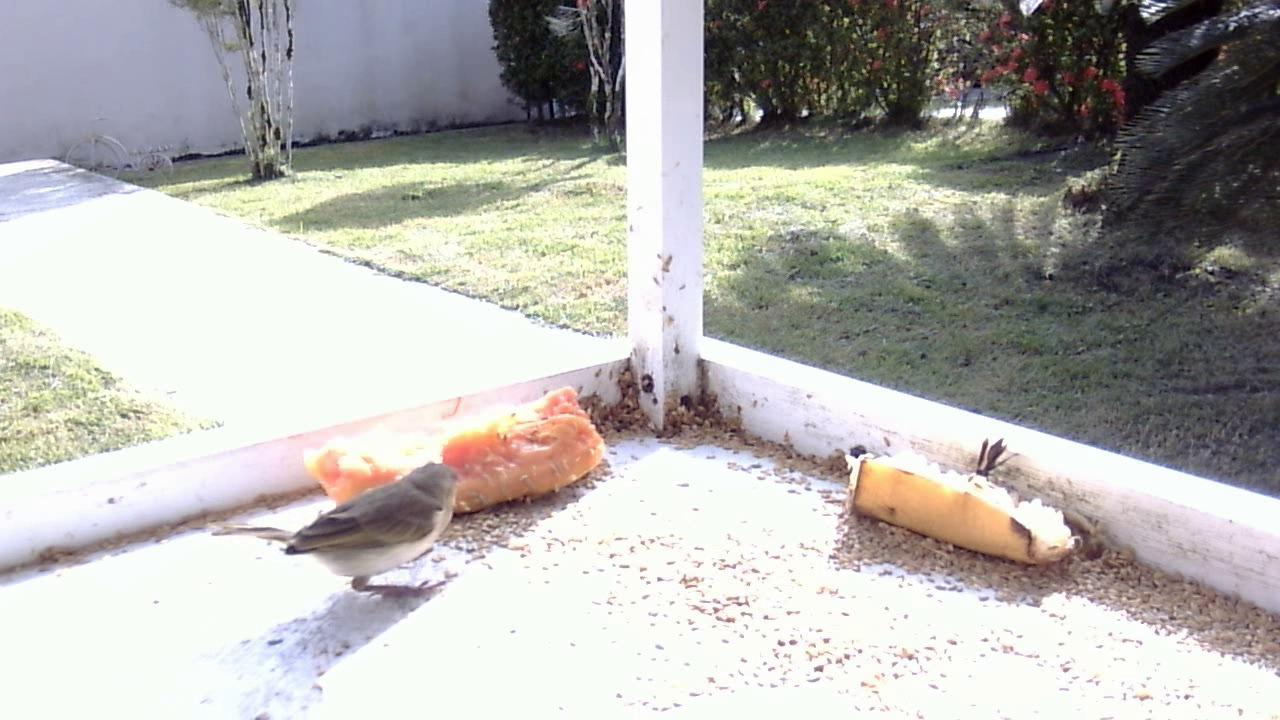canario_do_amazonas: (214, 445, 487, 616)
